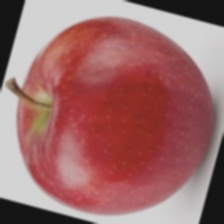apple: (18, 28, 173, 215)
